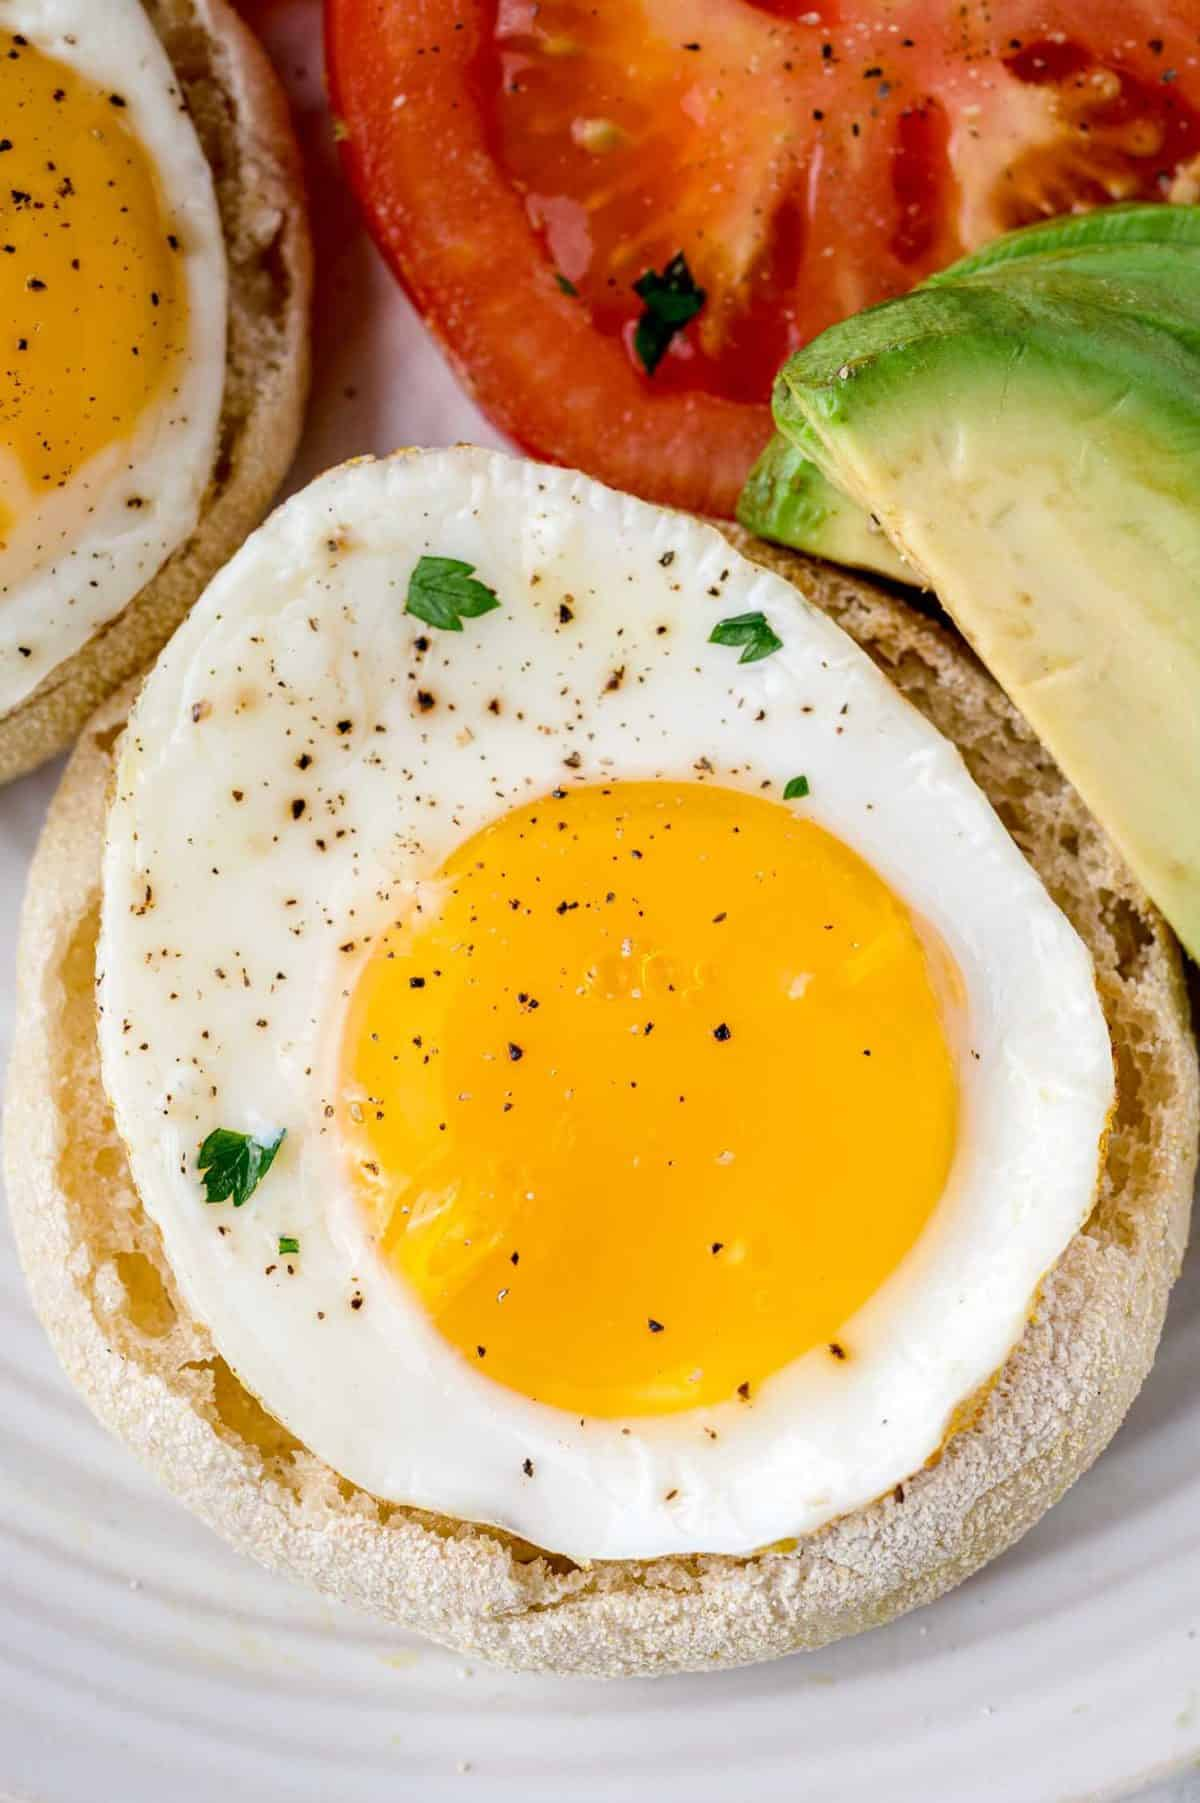Sunny Side Up: (103, 438, 1102, 1569)
